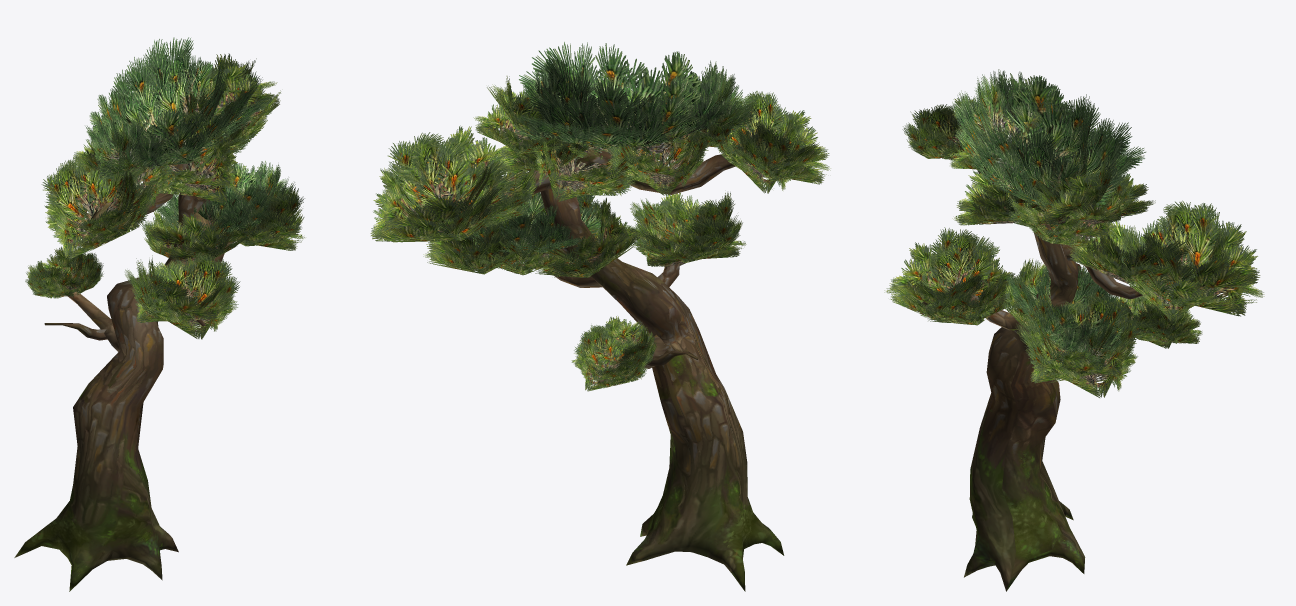
File: jintf_tree_01b.FBX
3 renders of one model, left to right at view 1: azimuth 30°, elevation 25°; view 2: azimuth 150°, elevation 25°; view 3: azimuth 270°, elevation 25°, orthographic. The views are drawn at different scales.
Visible parts, largest first — view 1: jintf_tree_01b; view 2: jintf_tree_01b; view 3: jintf_tree_01b.
Boxes of the visible parts, x1,y1,x2,y2 form: jintf_tree_01b: [14, 37, 304, 591]; jintf_tree_01b: [370, 42, 830, 591]; jintf_tree_01b: [884, 69, 1264, 591].
Size of the model in its own units: 1293 by 1826 by 1252.
